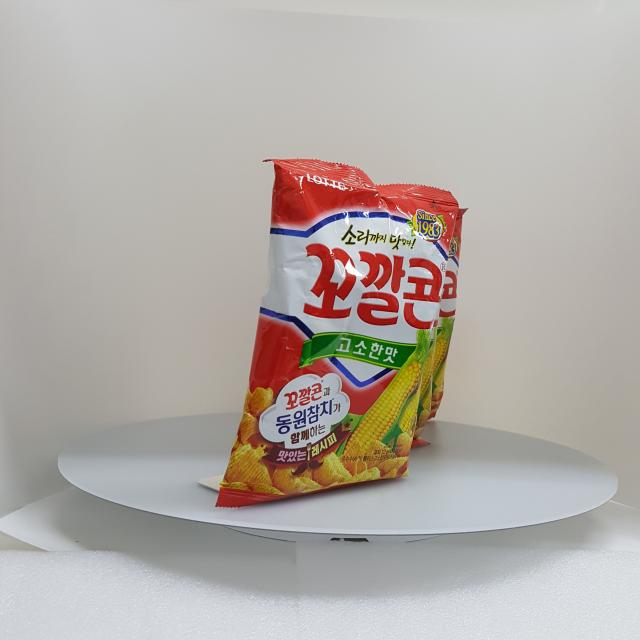-72G: (215, 159, 460, 509)
